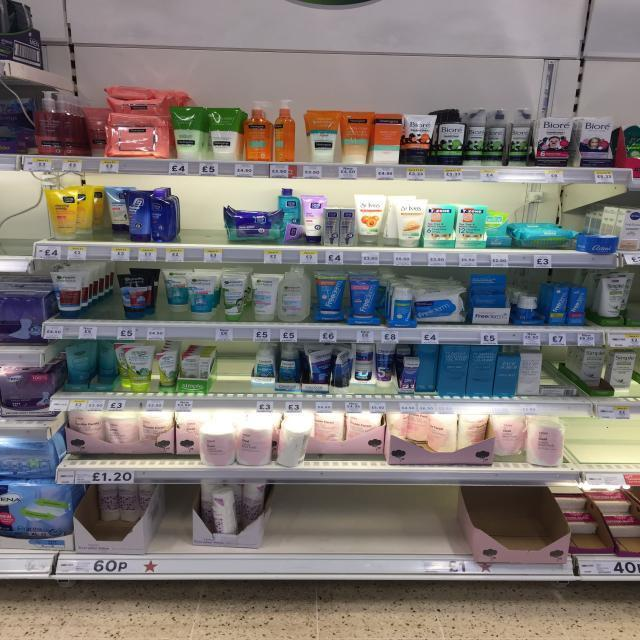Imprecise: (55, 412, 199, 469), (551, 482, 640, 562), (79, 482, 154, 554), (311, 412, 388, 470), (354, 339, 401, 394), (507, 218, 578, 254), (156, 268, 190, 322), (586, 344, 618, 400), (494, 414, 524, 468), (92, 336, 118, 396), (102, 186, 128, 242), (249, 340, 273, 398), (620, 272, 638, 325), (282, 220, 308, 242)
